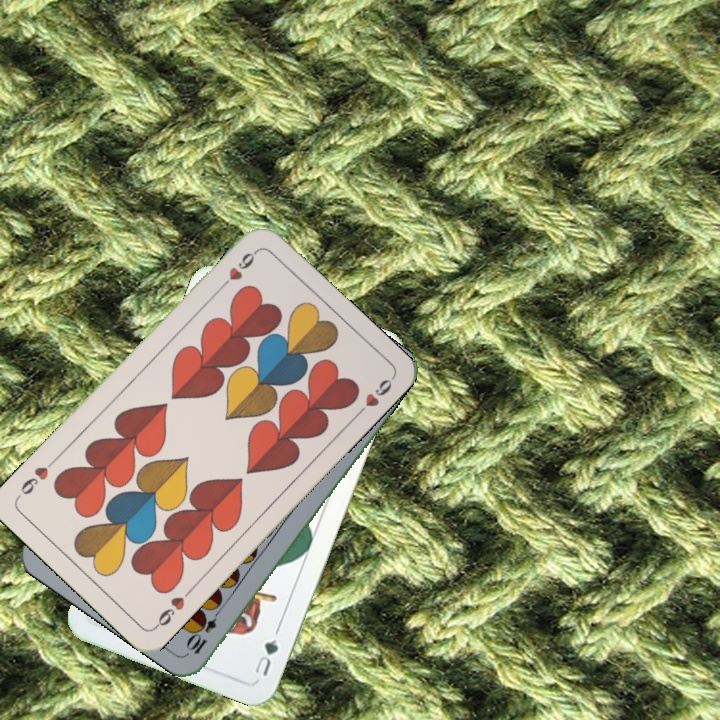E10: (183, 602, 225, 657)
GU: (250, 635, 281, 679)
H9: (150, 585, 196, 632), (215, 246, 260, 293)
